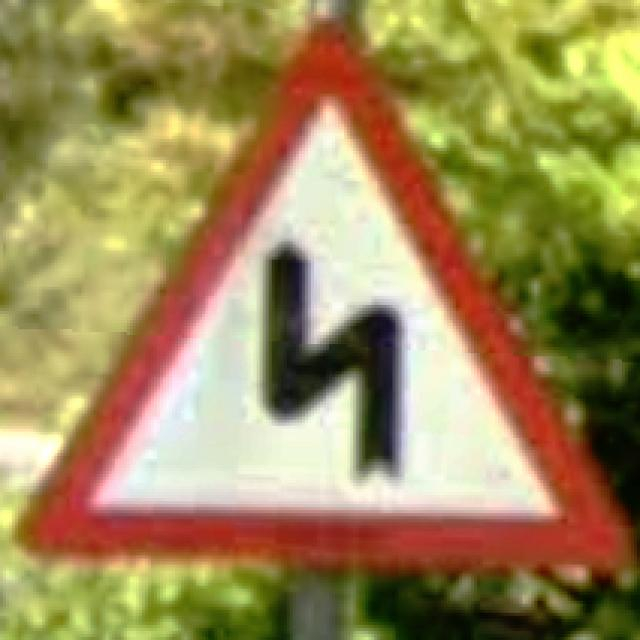doublebendleft: (18, 21, 631, 568)
